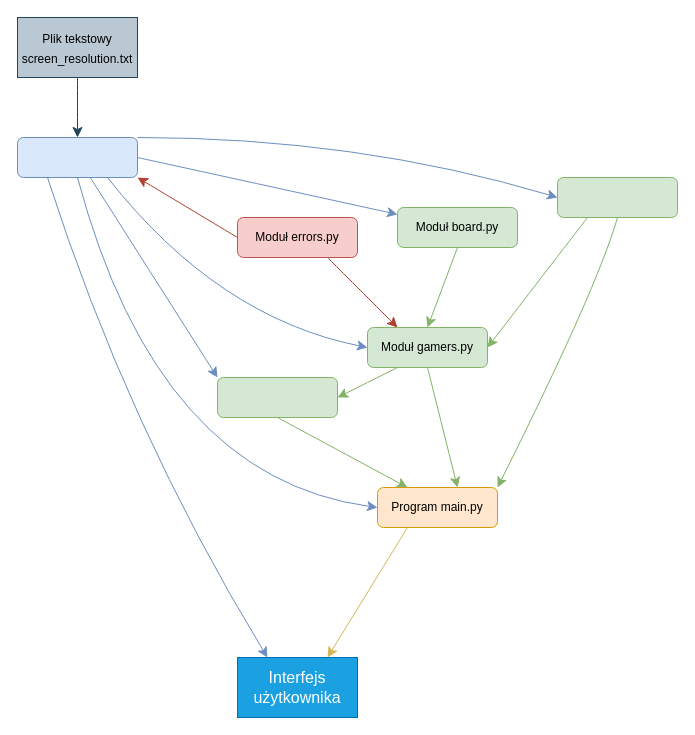
Some shapes in this 695 by 735 pixel diagram are drawn without their labels. The centre of each missing label's shape, as x and y in pixels:
"Moduł buttons.py" goes at point 277,397.
"Moduł settings.py" goes at point 77,157.
"Moduł ships.py" goes at point 617,197.
